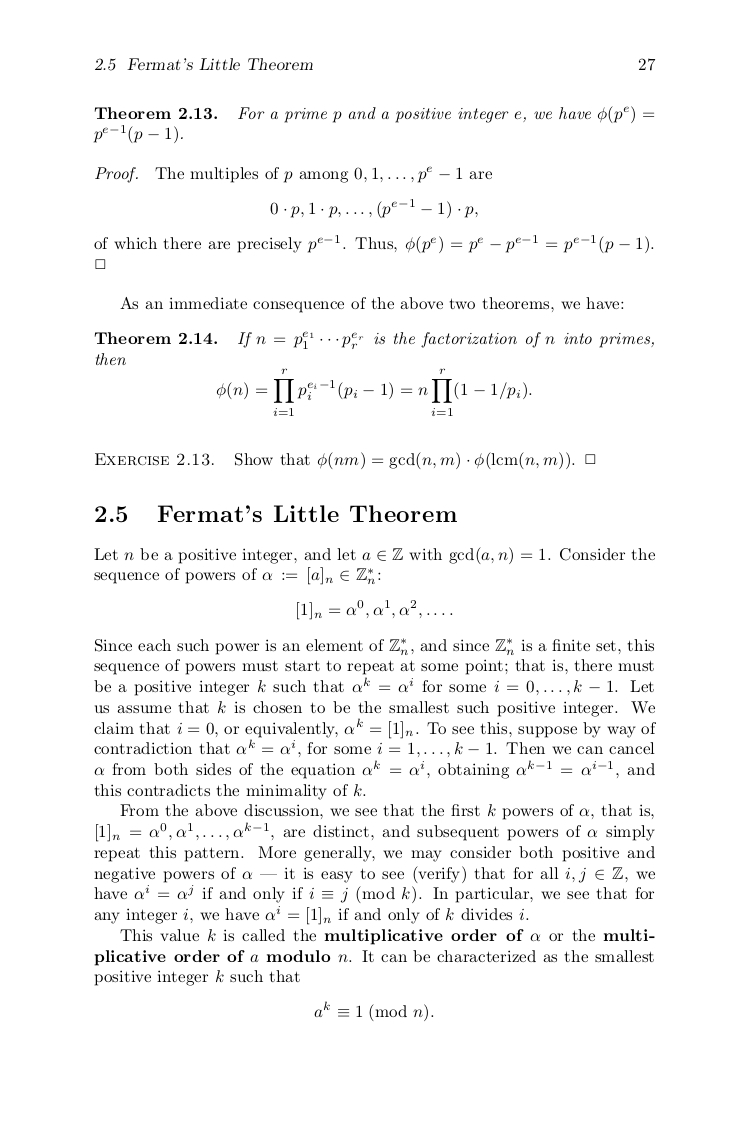formula: (216, 368, 531, 415), (270, 198, 477, 219), (297, 599, 452, 620), (314, 1000, 433, 1022)
